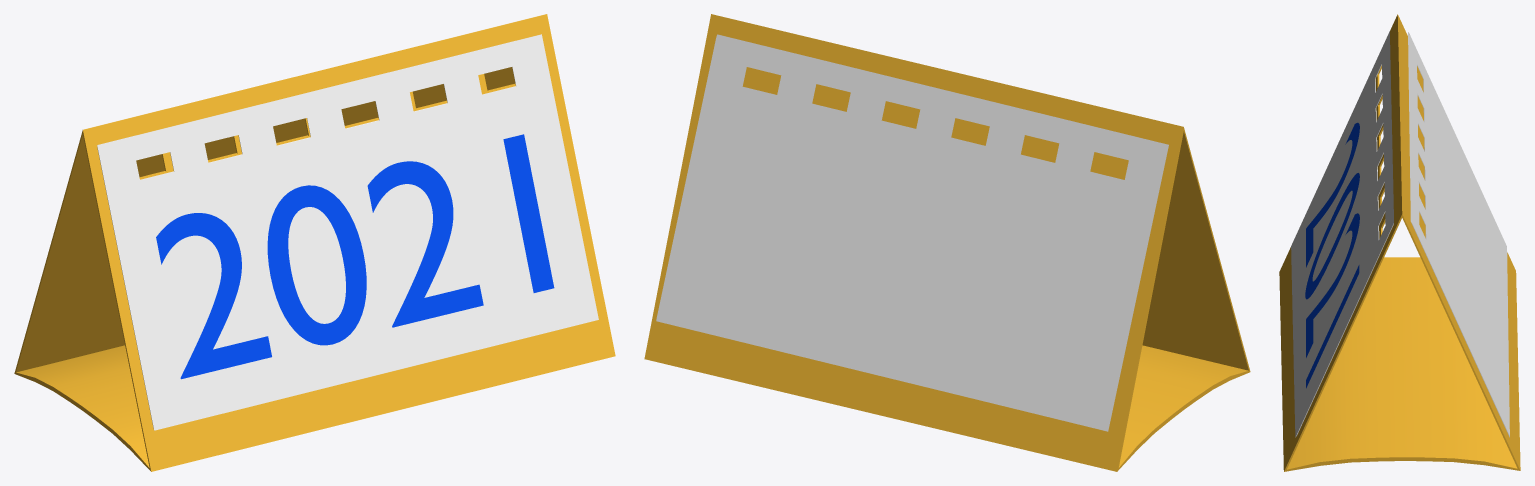
Rendered from calendario.fbx.
The picture shows the model from 3 angles, left to right: view 1: azimuth 30°, elevation 25°; view 2: azimuth 150°, elevation 25°; view 3: azimuth 270°, elevation 25°; orthographic projection. The views are drawn at different scales.
Visible parts, largest first — view 1: Vert, Text; view 2: Vert; view 3: Vert, Text.
Boxes of the visible parts, box(x1,y1,x2,y2) form: Vert: box(14, 14, 615, 471); Text: box(156, 134, 554, 379); Vert: box(644, 14, 1250, 471); Vert: box(1279, 14, 1520, 471); Text: box(1305, 122, 1359, 388).
Bounding box in the file's own units: 50.23 × 30 × 25.47.
